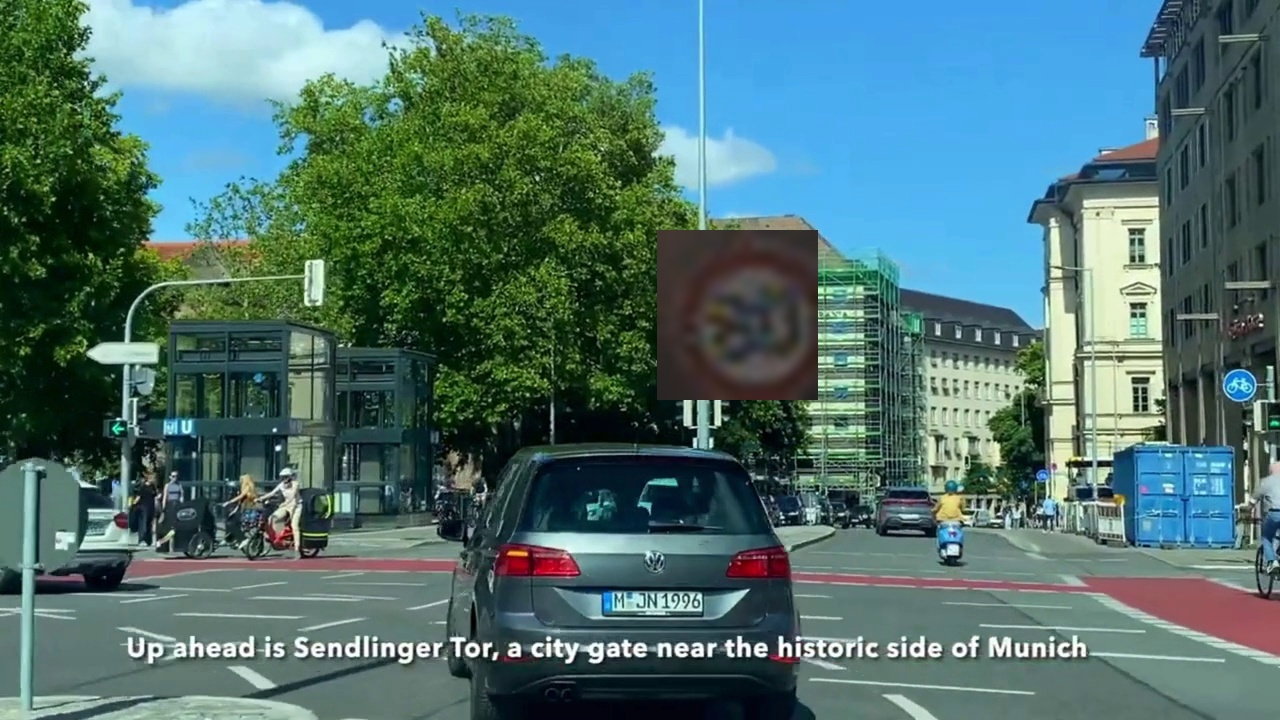Speed 80: (657, 230, 818, 400)
